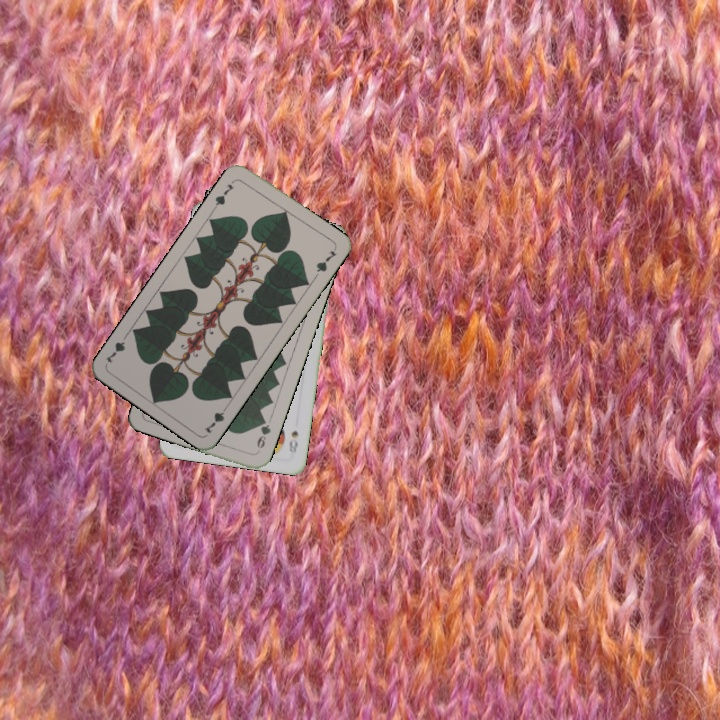G7: (201, 401, 231, 436), (210, 176, 238, 211)
G9: (252, 414, 273, 455)
S8: (285, 427, 301, 457)
